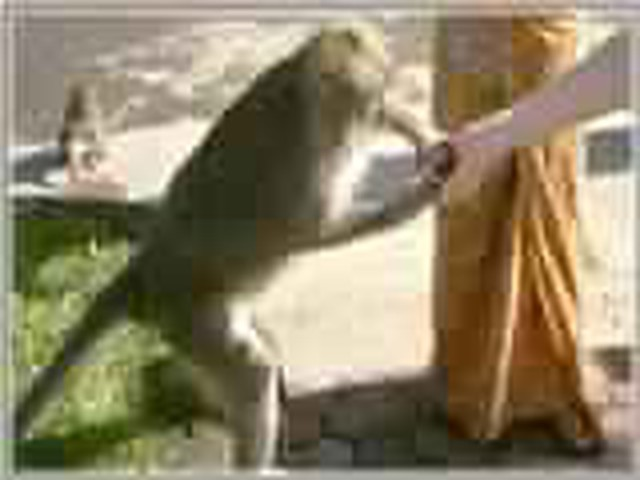Monkey: (51, 20, 421, 480)
